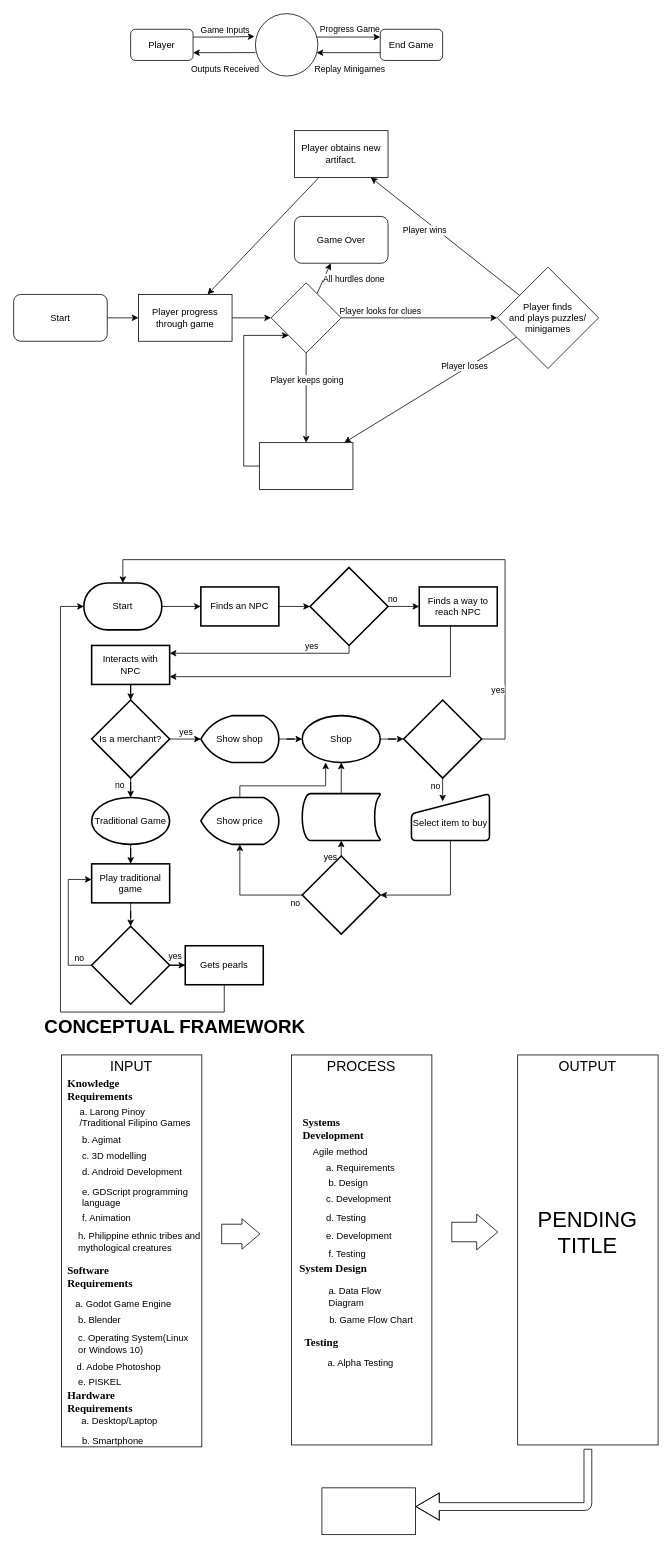
This 672x1548 diagram has some shape labels left out. The shapes that lost their labels are listed below. From the top down, each one's centre as x and y in pixels, then its label:
At (286,44): "Run Game".
At (305,317): "Player finds hurdles".
At (306,465): "Player stops progressing".
At (348,606): "Can reach them?".
At (442,738): "Exit shop?".
At (341,816): "Add item to inventory".
At (341,894): "Has enough pearls?".
At (130,965): "Beat the game?".
At (368,1511): "EVALUATION".
